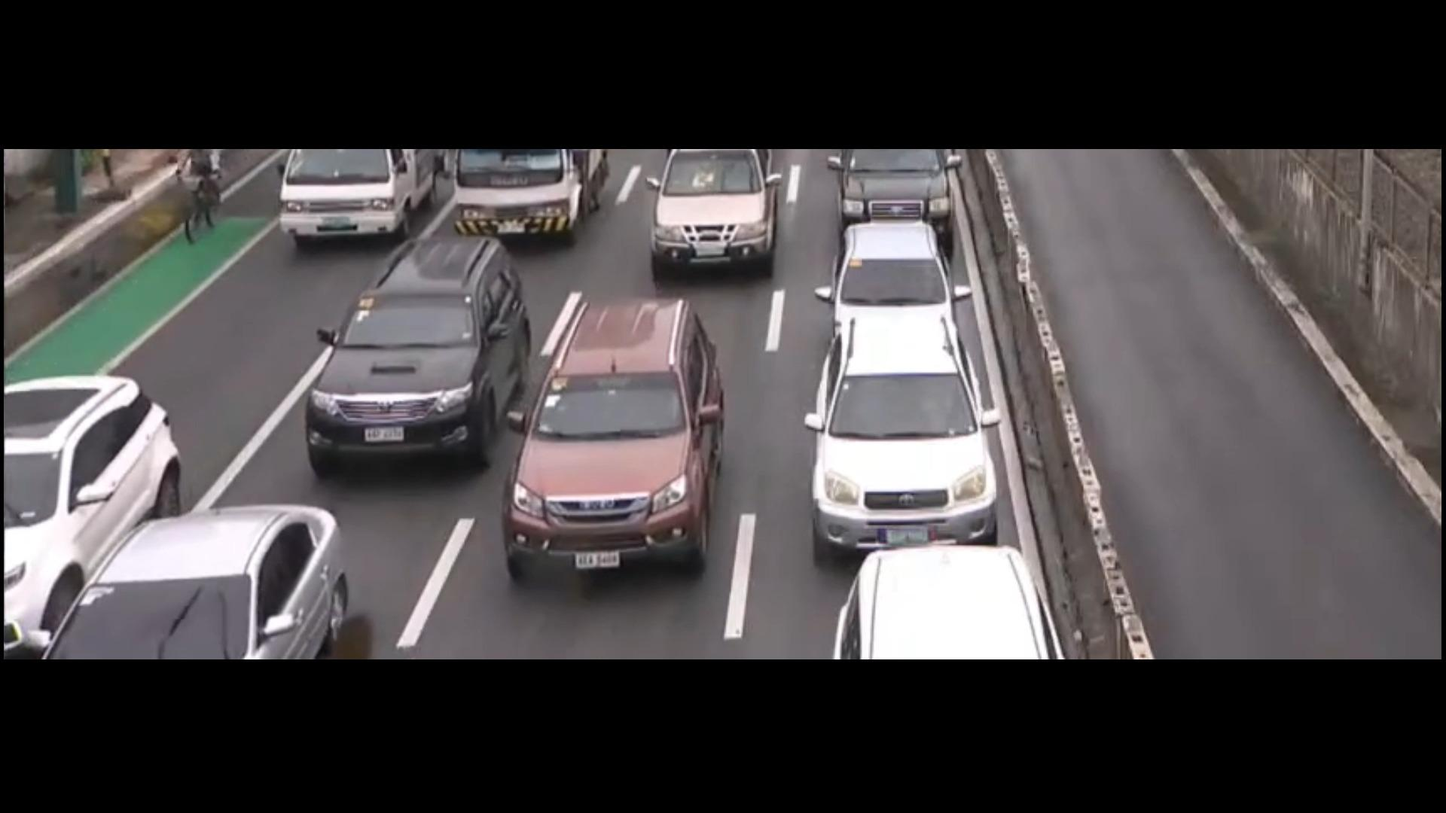Bicycle: (163, 158, 234, 256)
SUV: (480, 271, 767, 588), (271, 215, 548, 510), (0, 326, 209, 650), (788, 313, 1023, 572)
Sedan: (27, 482, 394, 665), (816, 209, 985, 329)
